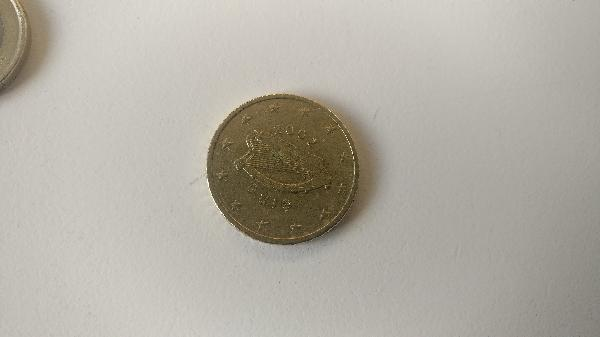Fifty Cent: (204, 89, 377, 244)
